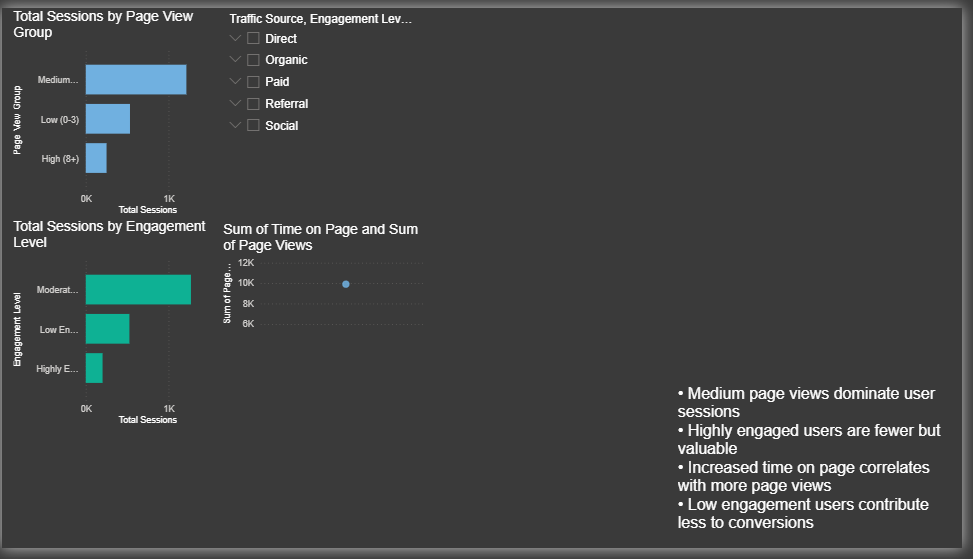

What the dashboard file says about the page in this screenshot:
{"tool":"powerbi","page":{"name":"User Behaviour","canvas":[1280,720],"ordinal":2},"visuals":[{"type":"clusteredBarChart","fields":{"Category":["website_data.Page View Group"],"Y":["website_data.Total Sessions"]},"box":[10,0,280,280],"z":0},{"type":"clusteredBarChart","fields":{"Category":["website_data.Engagement Level"],"Y":["website_data.Total Sessions"]},"box":[10,280,280,280],"z":1000},{"type":"scatterChart","fields":{"Y":["Sum(website_data.Page Views)"],"X":["Sum(website_data.Time on Page)"]},"box":[290,284,280,150],"z":2000},{"type":"slicer","fields":{"Values":["website_data.Traffic Source","website_data.Engagement Level","website_data.Page View Group"]},"box":[290,0,280,222],"z":3000},{"type":"textbox","box":[896,496,384,224],"z":3001}]}

Visuals, with their boxes in screenshot pixels (x1, y1, x2, y2), scaled from the page's 1280x720 canvas onto the 973x559 screenshot:
clusteredBarChart - website_data.Page View Group x website_data.Total Sessions: 8,0,220,217
clusteredBarChart - website_data.Engagement Level x website_data.Total Sessions: 8,217,220,435
scatterChart - Sum(website_data.Page Views) x Sum(website_data.Time on Page): 220,220,433,337
slicer - website_data.Traffic Source x website_data.Engagement Level: 220,0,433,172
textbox: 681,385,972,558
